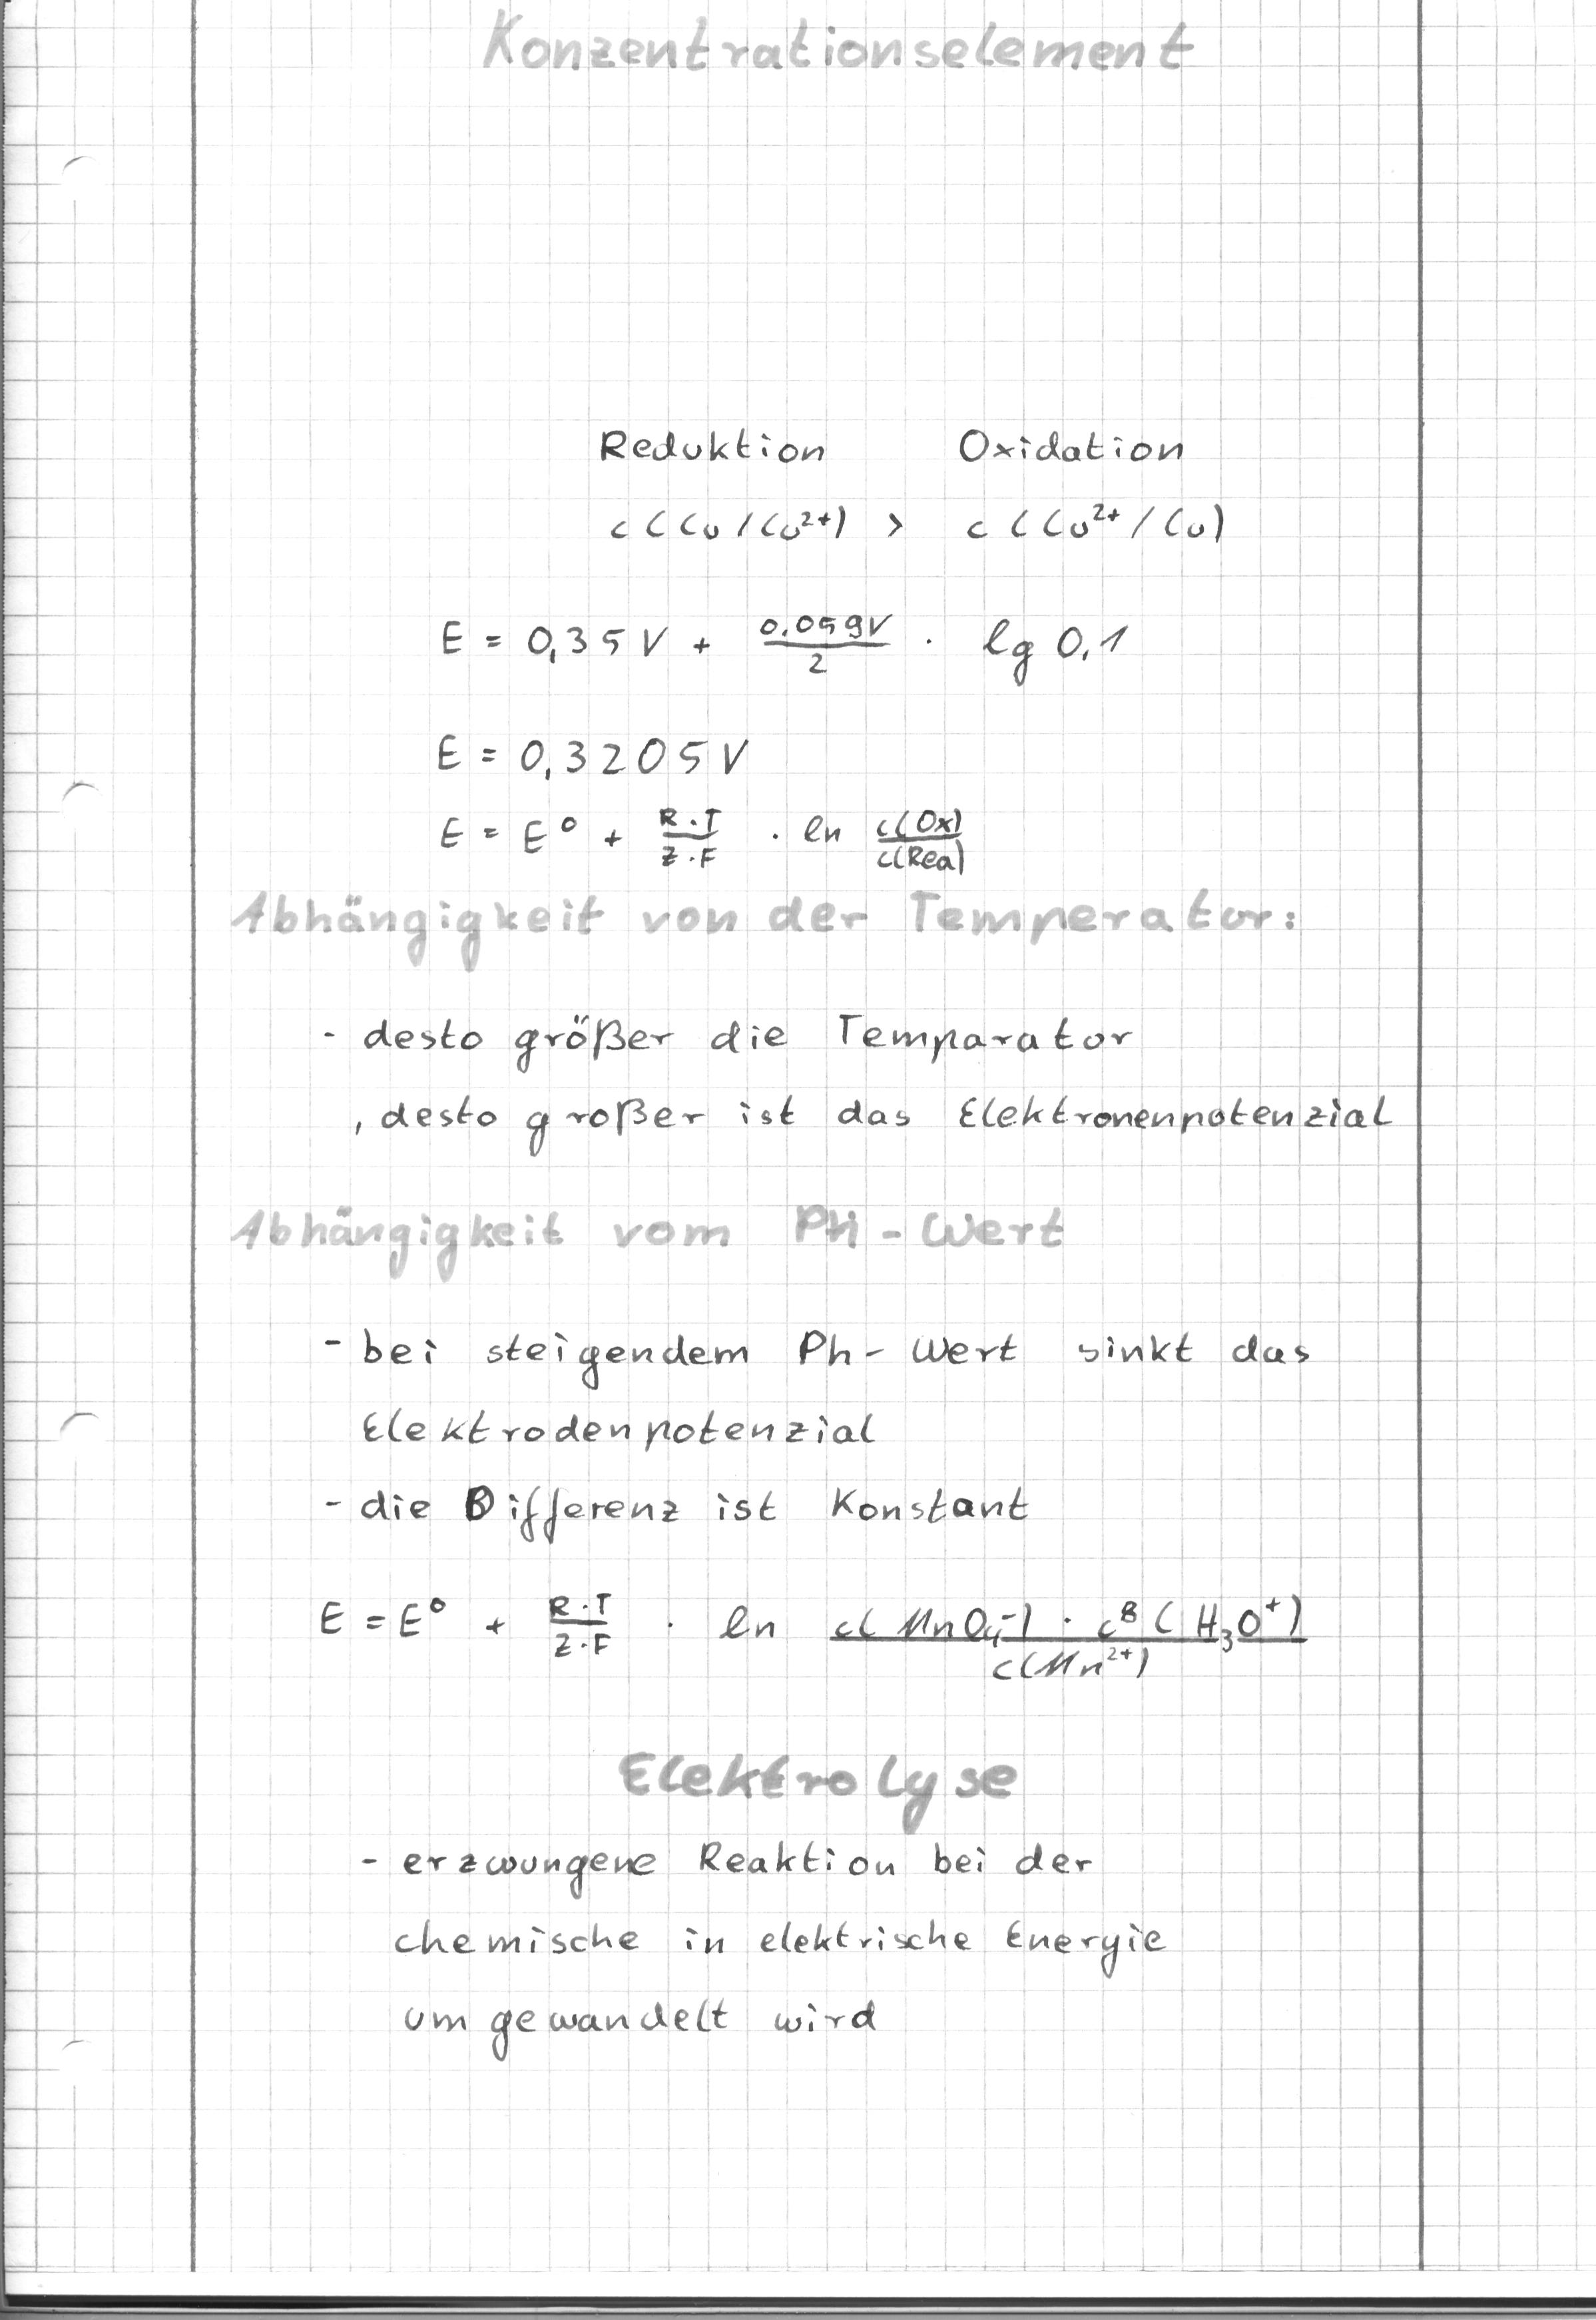word: (298, 1312, 1315, 1560), (342, 1833, 1171, 2070), (310, 1008, 1400, 1165), (307, 1566, 1317, 1701), (589, 414, 1243, 567), (421, 720, 975, 883), (423, 593, 1140, 705)
